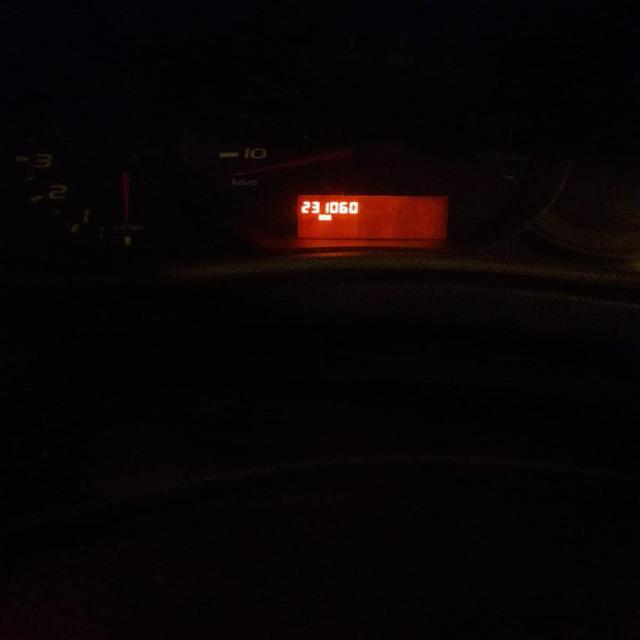odometer: (294, 192, 449, 240)
